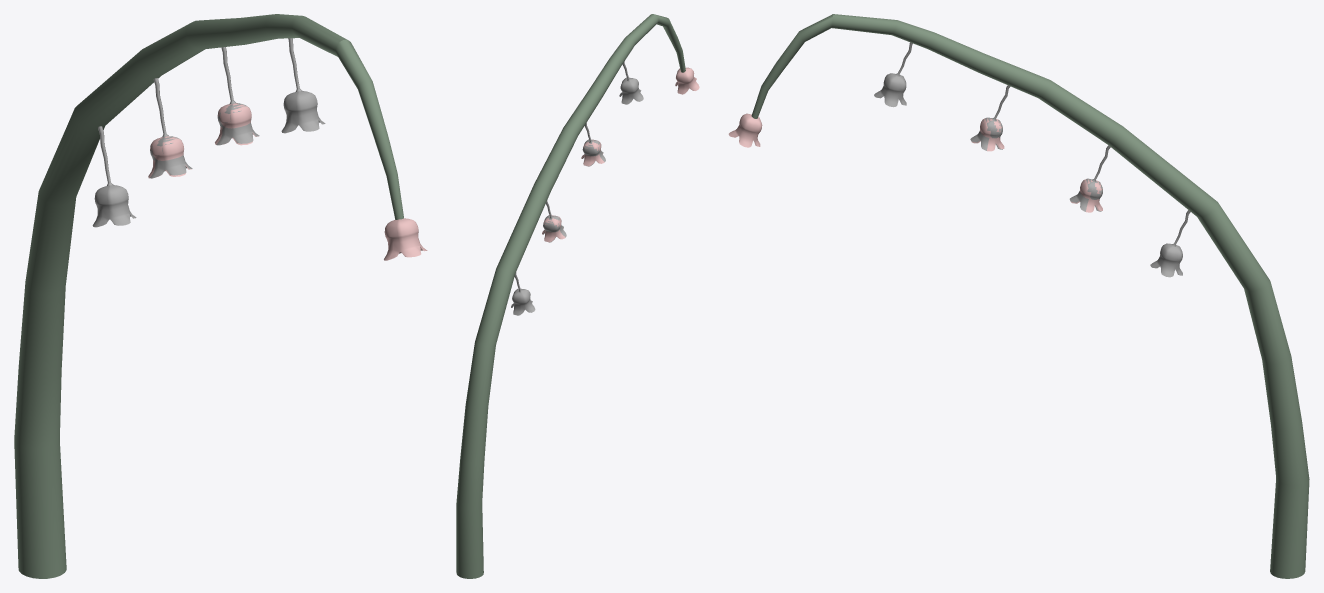
Rendered from lily.fbx.
3 renders of one model, left to right at view 1: azimuth 30°, elevation 25°; view 2: azimuth 150°, elevation 25°; view 3: azimuth 270°, elevation 25°, orthographic. The views are drawn at different scales.
Visible parts, largest first — view 1: pasted__pCylinder18; view 2: pasted__pCylinder18; view 3: pasted__pCylinder18.
Part boxes in pixels (x1=…): pasted__pCylinder18: x1=14, y1=14, x2=427, y2=578; pasted__pCylinder18: x1=456, y1=14, x2=699, y2=578; pasted__pCylinder18: x1=728, y1=14, x2=1309, y2=578.
Bounding box in the file's own units: 0.2101 × 2.85 × 2.72.
